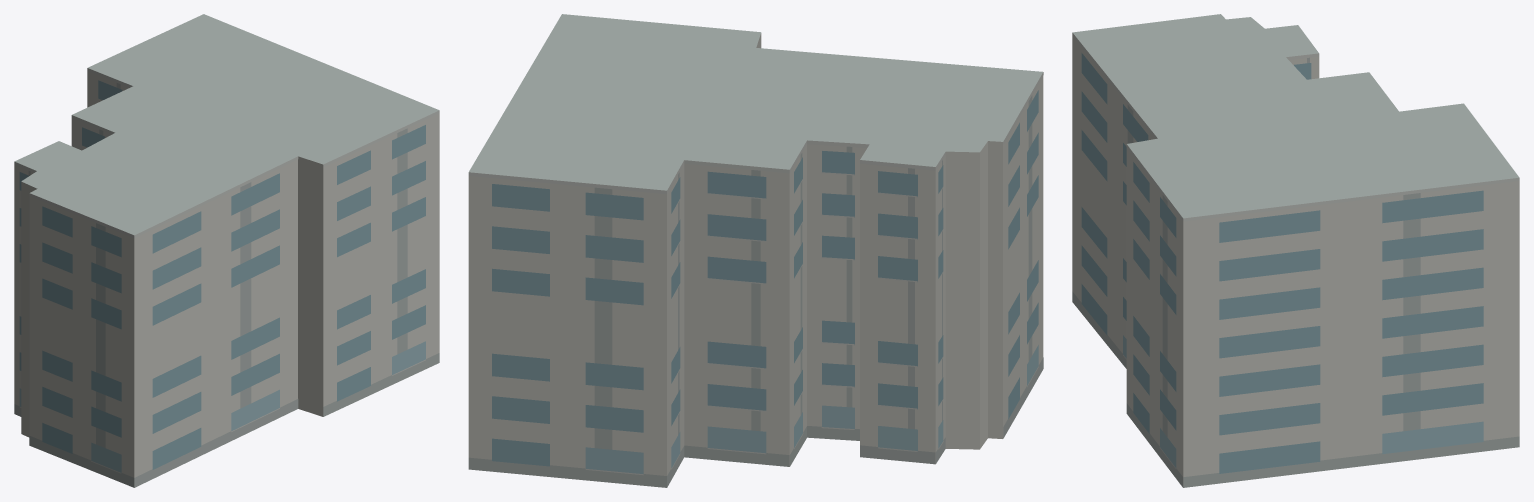
Rendered from survey-upis-32864775.glb.
3 views of the same model, side by side, from view 1: azimuth 30°, elevation 25°; view 2: azimuth 150°, elevation 25°; view 3: azimuth 270°, elevation 25° (orthographic). The views are drawn at different scales.
Visible parts, largest first — view 1: survey-upis-32864775.tmp; view 2: survey-upis-32864775.tmp; view 3: survey-upis-32864775.tmp.
Part boxes in pixels (box(x1,y1,x2,y2)): survey-upis-32864775.tmp: box(14, 14, 439, 487); survey-upis-32864775.tmp: box(468, 14, 1043, 487); survey-upis-32864775.tmp: box(1072, 14, 1519, 487).
Bounding box in the file's own units: 32.38 × 19.9 × 29.94.
